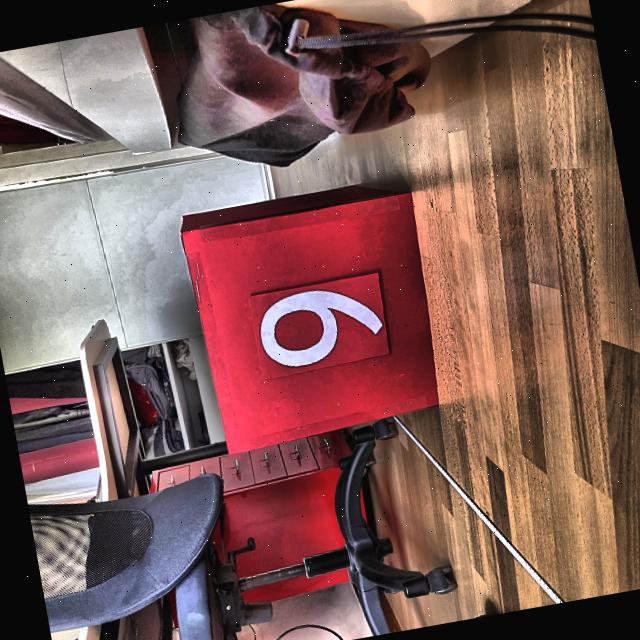nine: (252, 276, 392, 374)
red box: (178, 174, 450, 460)
